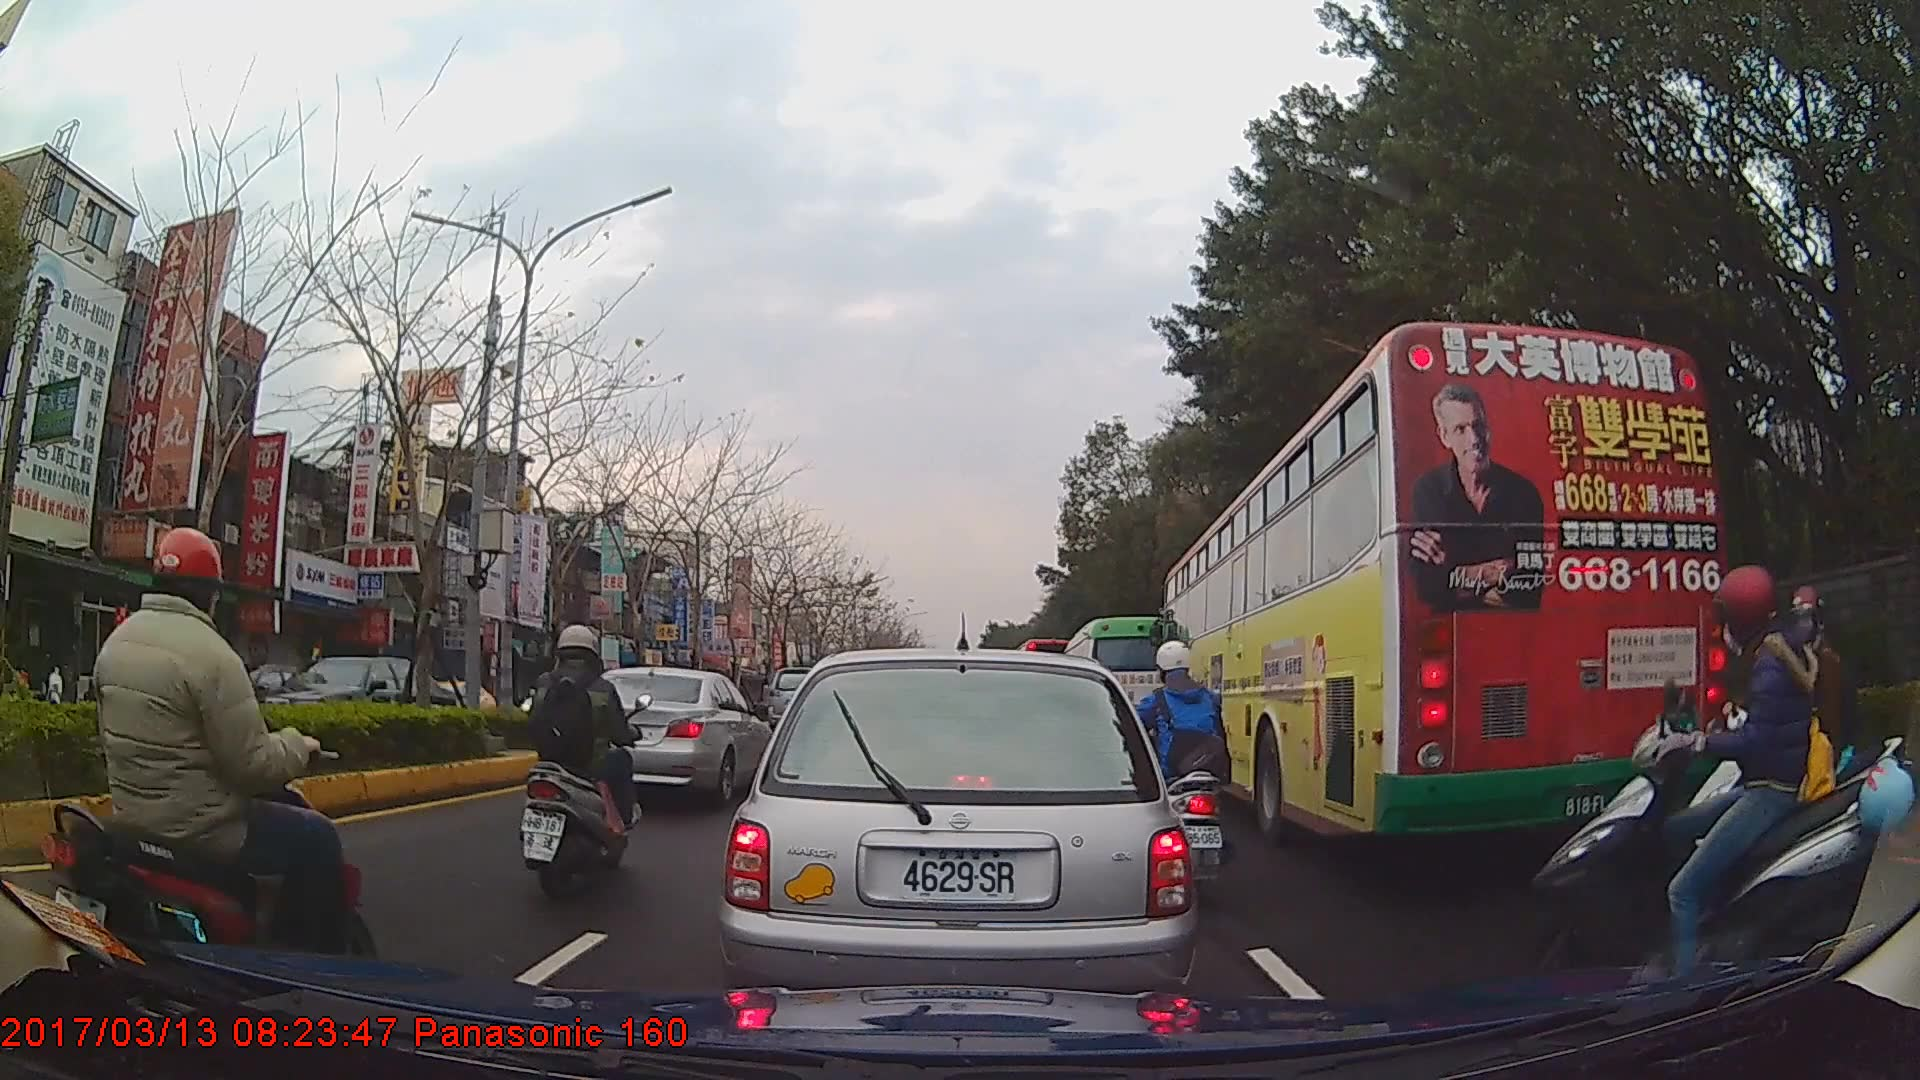rider: (1521, 573, 1913, 1003), (37, 530, 364, 988), (1693, 579, 1897, 912), (514, 625, 644, 899), (1131, 637, 1232, 901)
vehicle: (1160, 319, 1727, 849), (716, 647, 1193, 1029), (560, 662, 772, 806), (230, 651, 459, 750), (1058, 616, 1187, 764), (149, 656, 376, 736)
